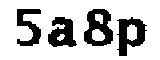5: (12, 4, 44, 52)
8: (82, 6, 116, 49)
a: (47, 14, 79, 53)
p: (115, 14, 148, 60)
